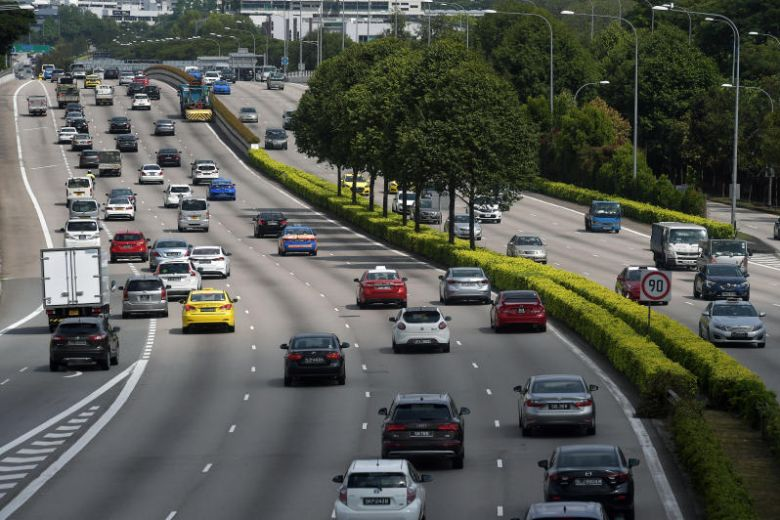Car: (383, 395, 468, 466), (332, 461, 427, 520), (544, 446, 633, 505), (43, 247, 113, 319), (517, 377, 593, 429), (48, 320, 116, 365), (282, 336, 351, 380), (701, 300, 763, 345), (652, 223, 713, 266), (392, 309, 449, 349), (492, 290, 544, 329), (438, 268, 492, 301), (182, 292, 231, 328), (692, 266, 747, 297), (151, 262, 200, 296), (357, 269, 405, 303), (122, 276, 167, 311), (583, 199, 622, 232), (65, 221, 100, 257), (187, 246, 230, 275), (508, 234, 548, 264), (113, 231, 149, 259), (177, 201, 210, 230), (281, 224, 314, 252), (445, 216, 481, 235), (96, 151, 122, 176), (67, 179, 94, 202), (70, 202, 98, 222), (165, 184, 192, 203), (105, 200, 135, 217), (255, 213, 283, 231), (208, 182, 235, 200), (265, 130, 289, 150), (140, 166, 163, 185), (190, 165, 219, 180), (155, 150, 181, 166), (96, 86, 116, 105), (155, 117, 175, 135), (28, 96, 46, 115), (108, 117, 131, 131), (131, 95, 152, 110), (72, 134, 92, 149), (116, 135, 135, 150), (240, 105, 256, 120)
